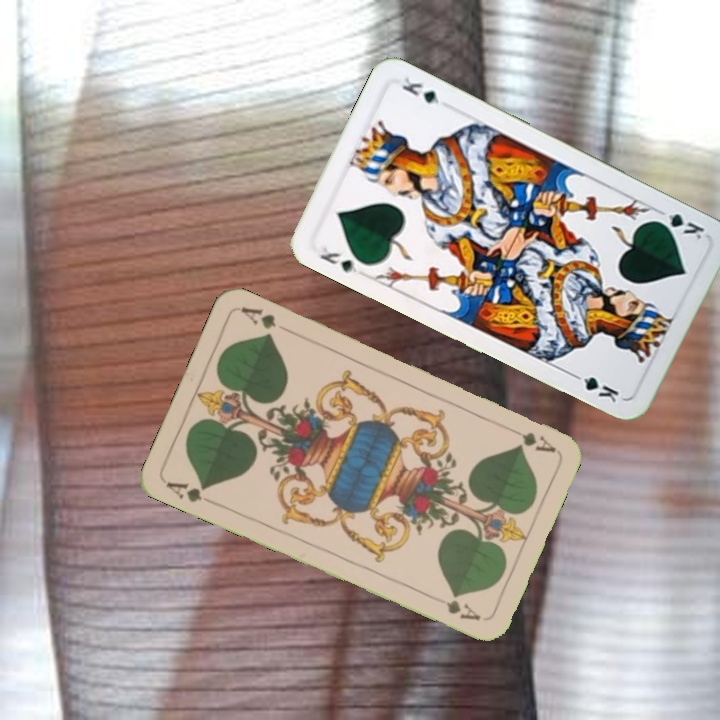GA: (502, 422, 559, 455), (161, 477, 219, 508)
GK: (650, 209, 707, 242), (316, 242, 360, 276)
